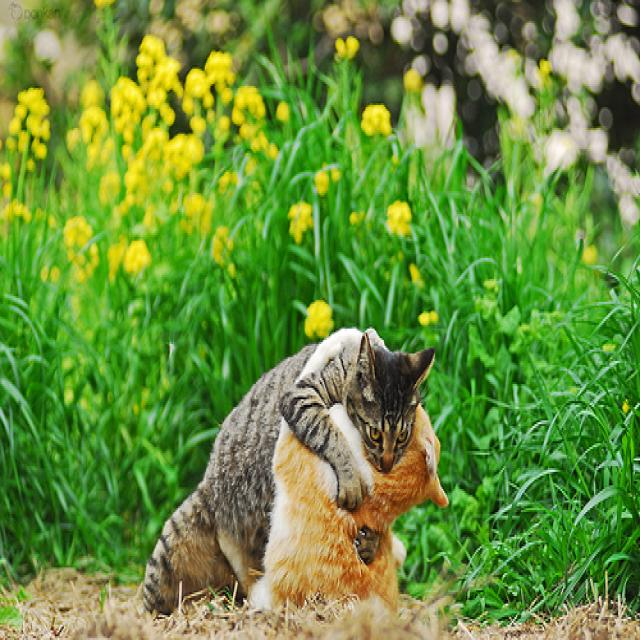left eye: (394, 426, 410, 445)
